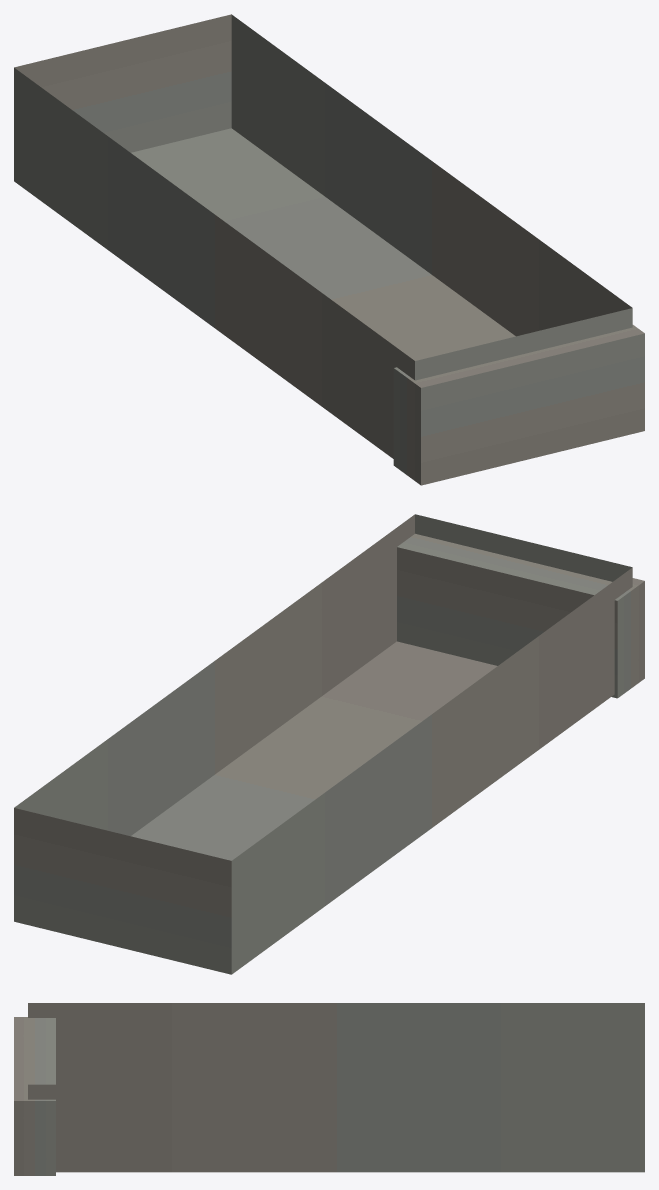
Rendered from pz_native_lighting_outdoor_01_36_wall_lamp.obj.
The picture shows the model from 3 angles, top to bottom: view 1: azimuth 30°, elevation 25°; view 2: azimuth 150°, elevation 25°; view 3: azimuth 270°, elevation 25°; orthographic projection. The views are drawn at different scales.
Parts seen in each view (by area): view 1: pz_native_lighting_outdoor_01_36_wall_lamp; view 2: pz_native_lighting_outdoor_01_36_wall_lamp; view 3: pz_native_lighting_outdoor_01_36_wall_lamp.
Part boxes in pixels (bbox=[...]): pz_native_lighting_outdoor_01_36_wall_lamp: bbox=[14, 14, 644, 485]; pz_native_lighting_outdoor_01_36_wall_lamp: bbox=[14, 514, 644, 974]; pz_native_lighting_outdoor_01_36_wall_lamp: bbox=[14, 1003, 644, 1175].
Bounding box in the file's own units: 0.1262 × 0.0631 × 0.4005.
Materials: 1 (1 with a texture image).
